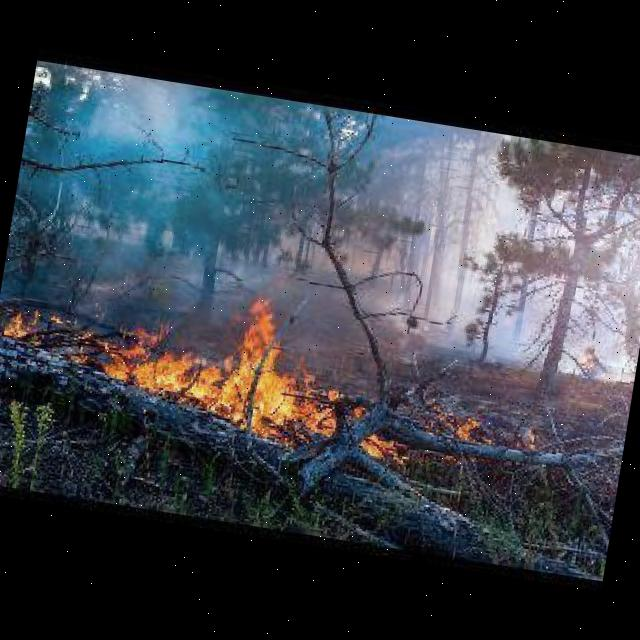fire: (0, 243, 591, 516)
